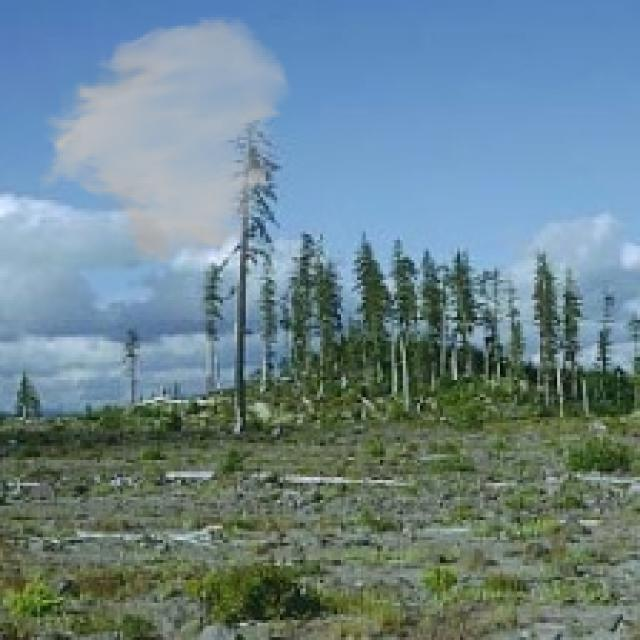smoke: (34, 14, 294, 269)
